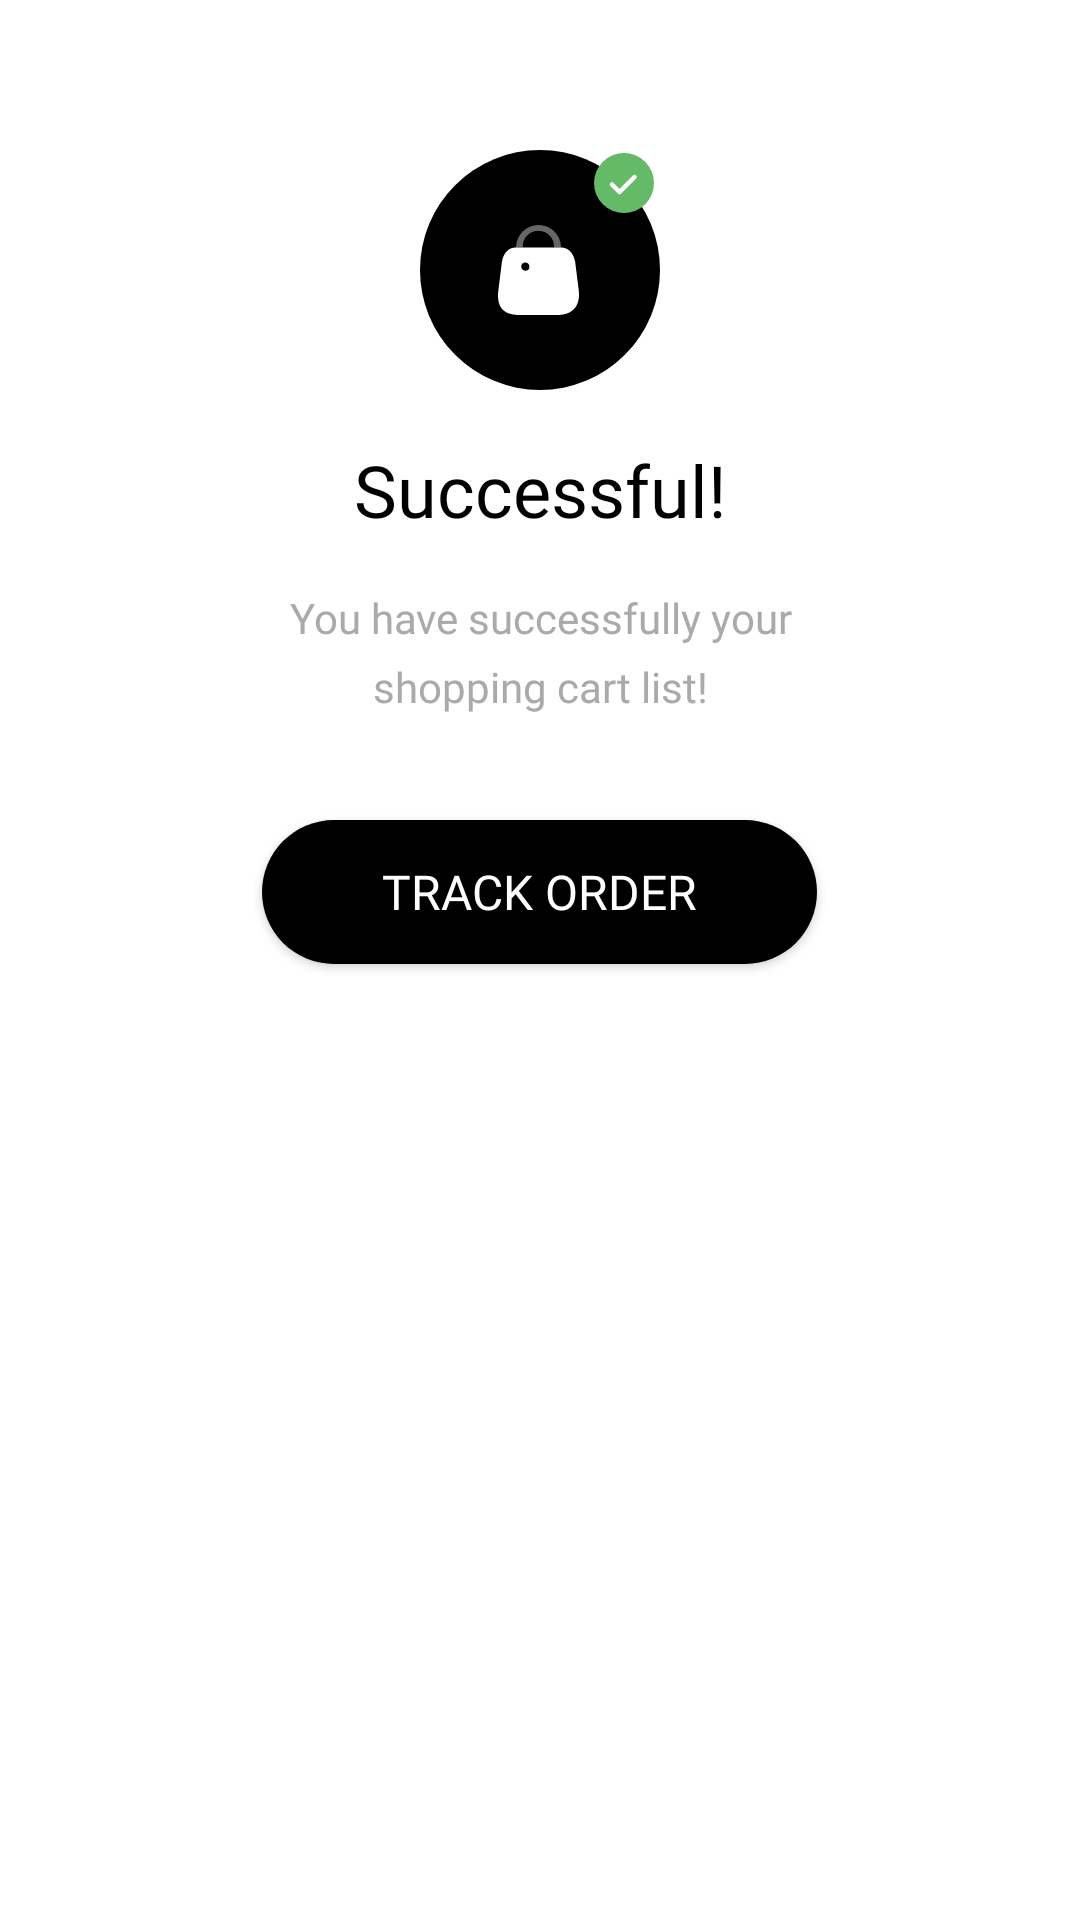

Icons on this 1080x1920 Android screen, each with the point to tap as (x=x, y=y):
Prompt Icon: (x=540, y=270)
